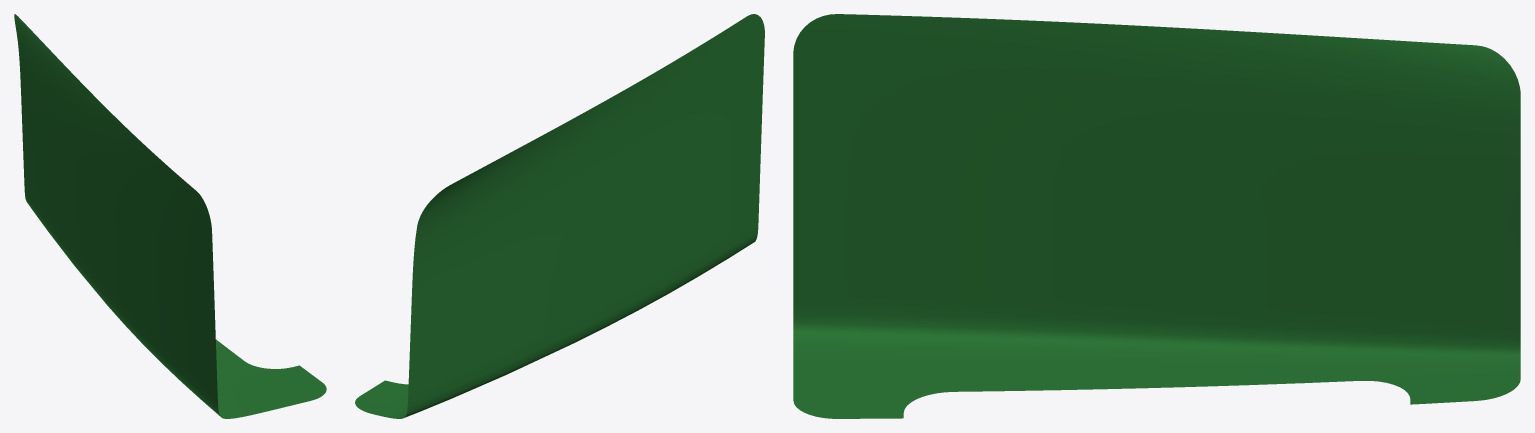
The model's file is Ruben_GF_test_Cover_RR.glb.
3 views of the same model, side by side, from view 1: azimuth 30°, elevation 25°; view 2: azimuth 150°, elevation 25°; view 3: azimuth 270°, elevation 25° (orthographic). The views are drawn at different scales.
Parts seen in each view (by area): view 1: Leon.012; view 2: Leon.012; view 3: Leon.012.
Boxes of the visible parts, x1,y1,x2,y2 form: Leon.012: (14, 14, 326, 418); Leon.012: (355, 14, 764, 418); Leon.012: (793, 14, 1520, 418).
Bounding box in the file's own units: 0.00186 × 0.00313 × 0.0065.
1 material, 1 textured.
